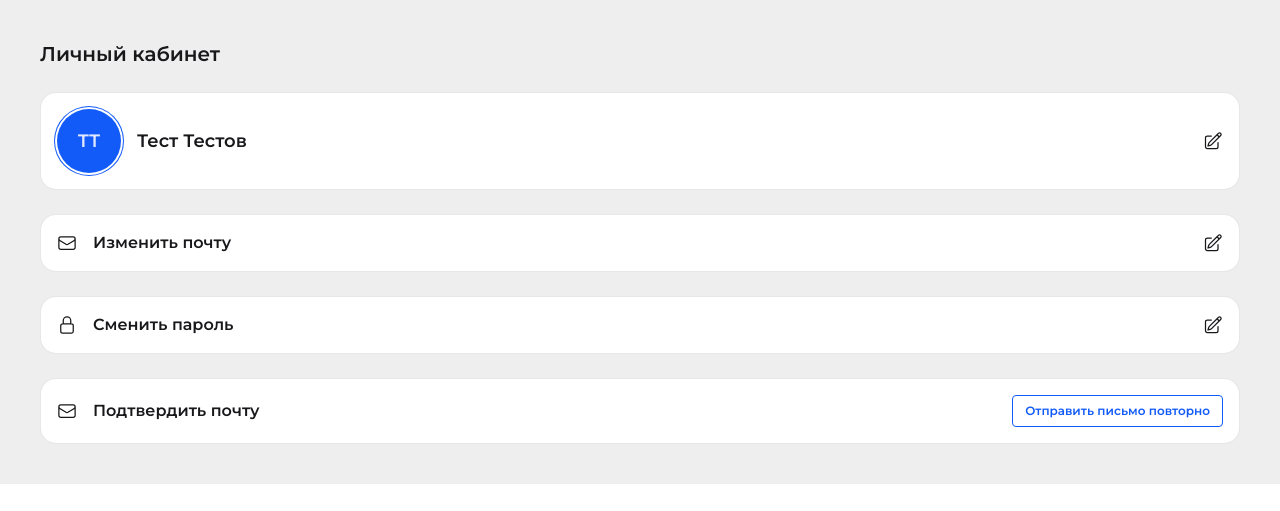
Test: ProfilePage › VERIFY-03: клик по «Отправить письмо повторно» вызывает resendVerification и показывает успех
This screenshot has width=1280, height=511.
Click the button "Отправить письмо повторно": coordinates (1118, 411) [1012,395,1223,427]
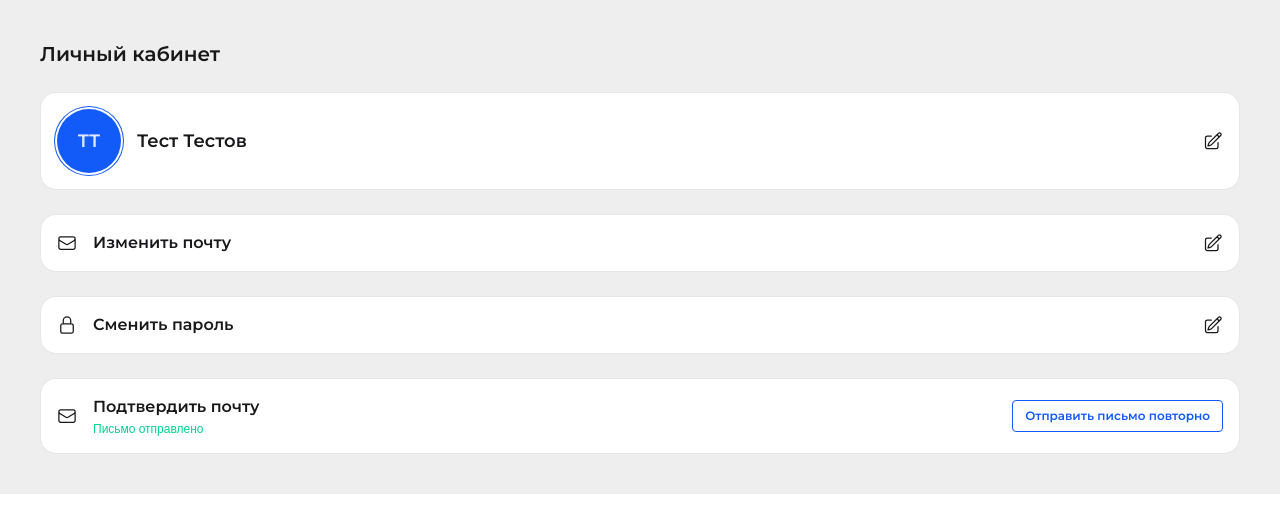
Expected: the text "Письмо отправлено" is shown, [93,421,204,436]
